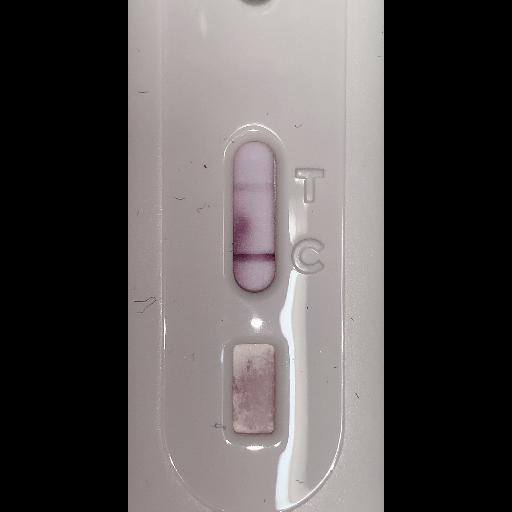Pos: (128, 0, 354, 502)
